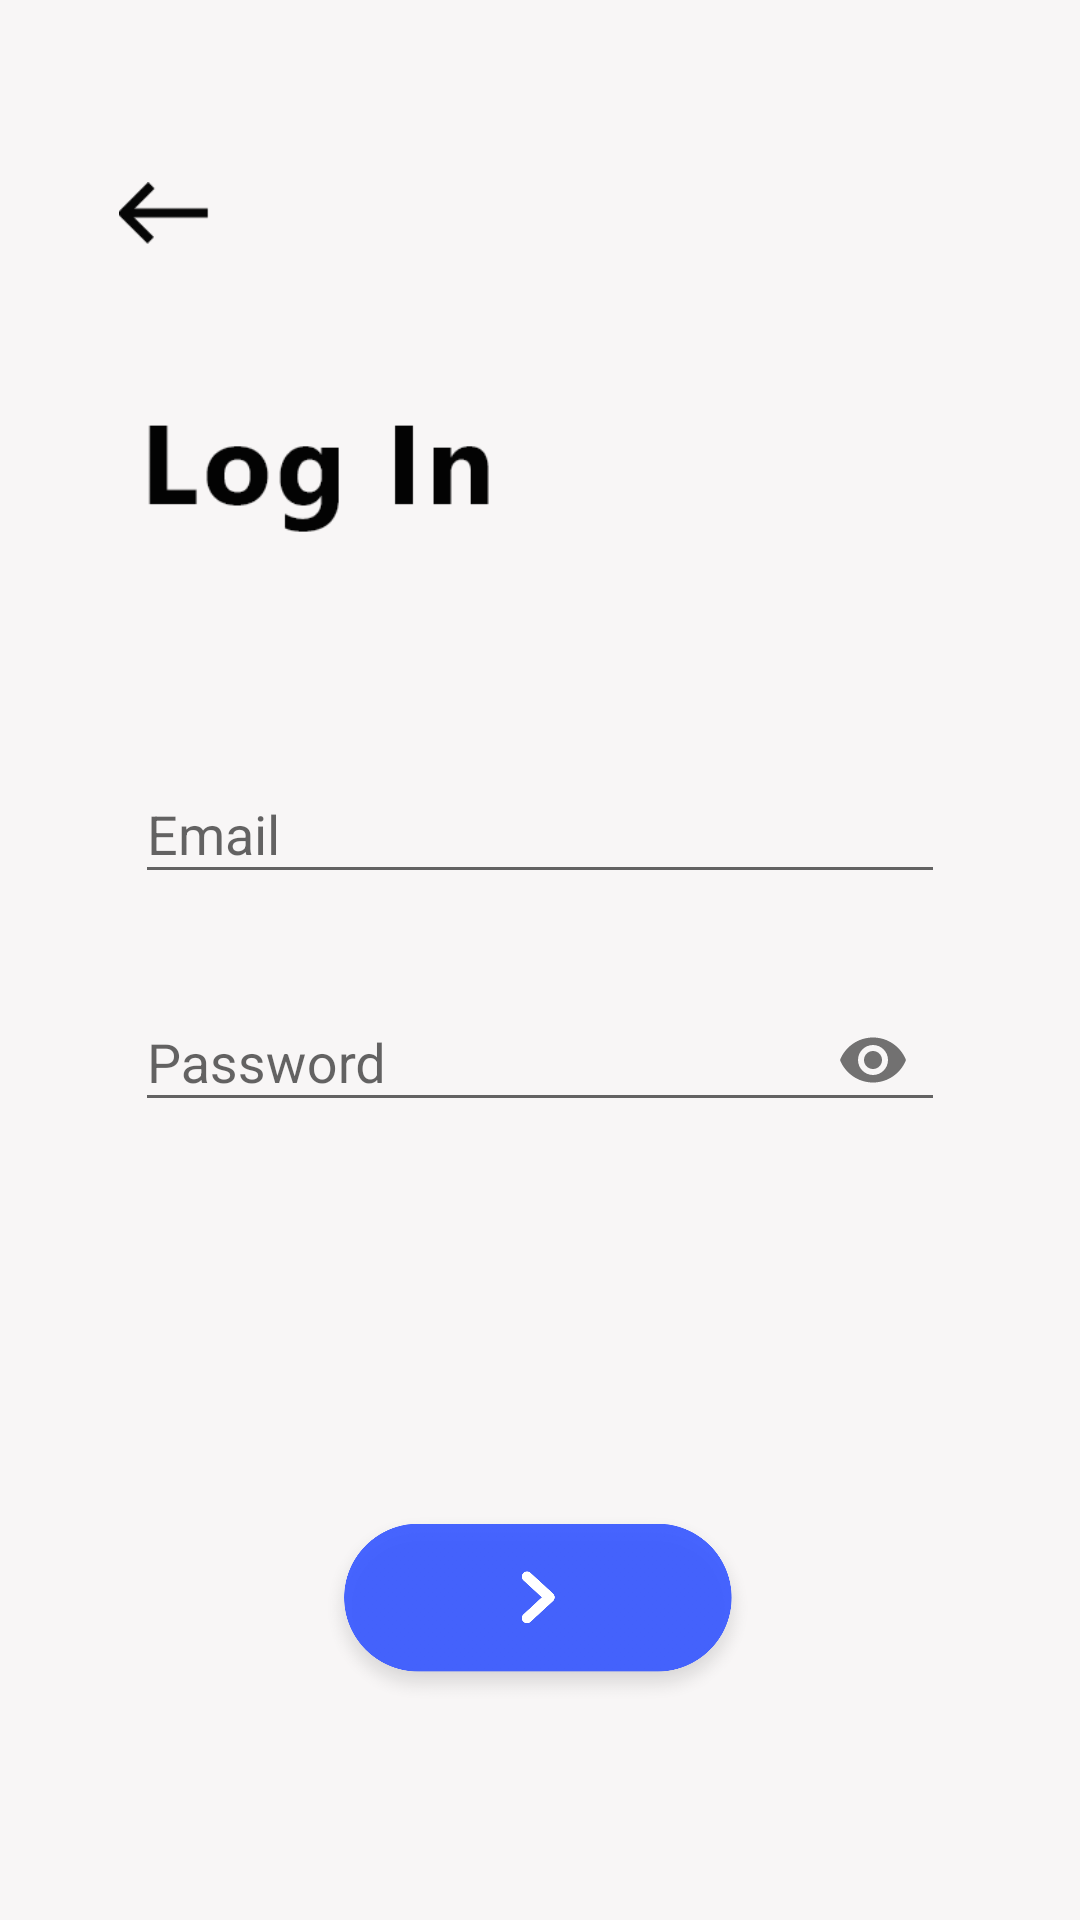

Icons on this 1080px×1920px Android screen, each with its box as region(x1, y1, x2, y2):
back arrow: region(119, 182, 208, 244)
